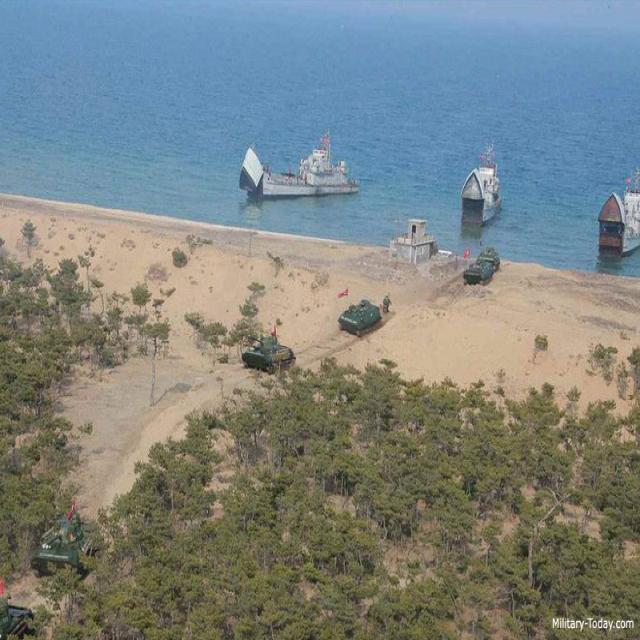Tank: (32, 506, 114, 578), (226, 312, 290, 382), (327, 294, 388, 346), (451, 246, 491, 287)
